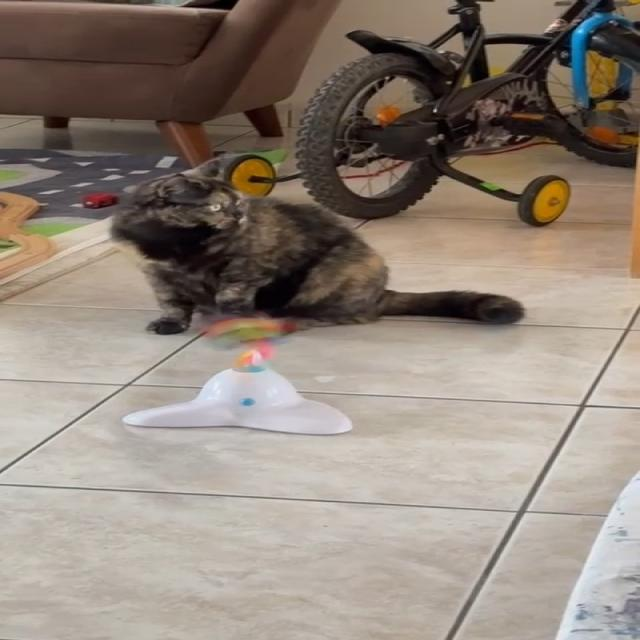authorized: (107, 153, 525, 335)
